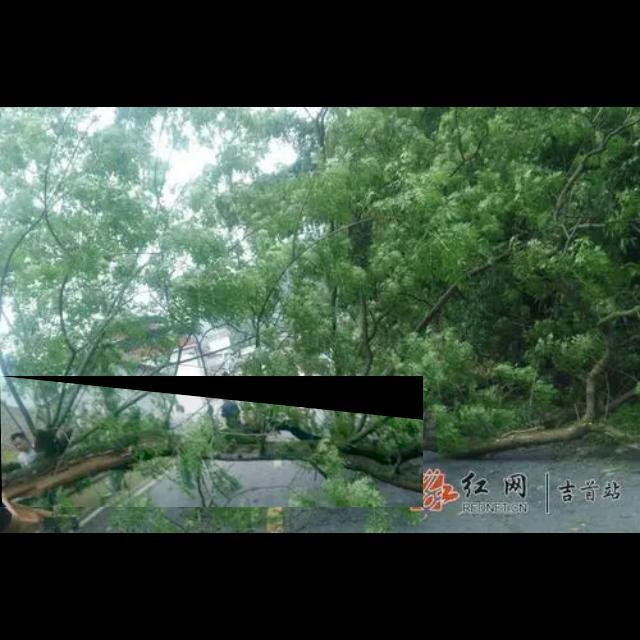fallen_tree: (0, 376, 424, 508)
